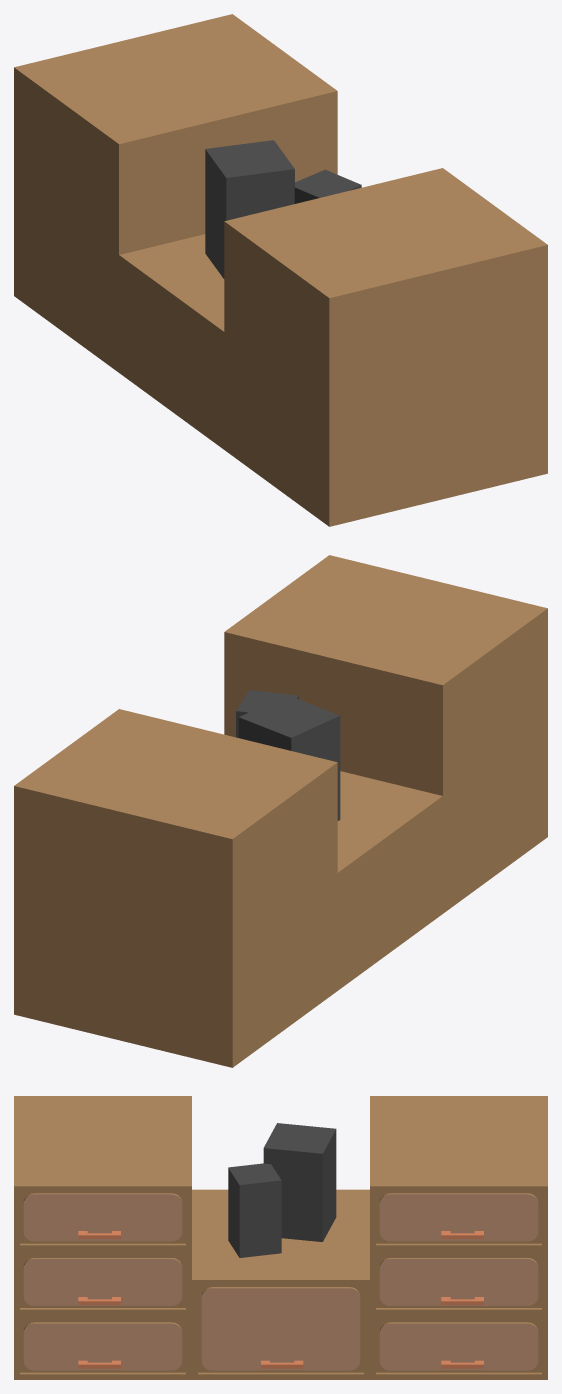
File: soundbox.glb
3 renders of one model, top to bottom at view 1: azimuth 30°, elevation 25°; view 2: azimuth 150°, elevation 25°; view 3: azimuth 270°, elevation 25°, orthographic. The views are drawn at different scales.
Visible parts, largest first — view 1: Cube, Cube.002; view 2: Cube, Cube.002; view 3: Cube, Cube.002, Cube.009.
Part boxes in pixels (<box>): Cube: <box>14,14,547,526</box>; Cube.002: <box>205,140,361,278</box>; Cube: <box>14,555,547,1067</box>; Cube.002: <box>236,690,340,820</box>; Cube: <box>14,1096,547,1379</box>; Cube.002: <box>228,1123,336,1257</box>; Cube.009: <box>78,1231,483,1368</box>.
Bounding box in the file's own units: 2.08 × 2 × 5.
